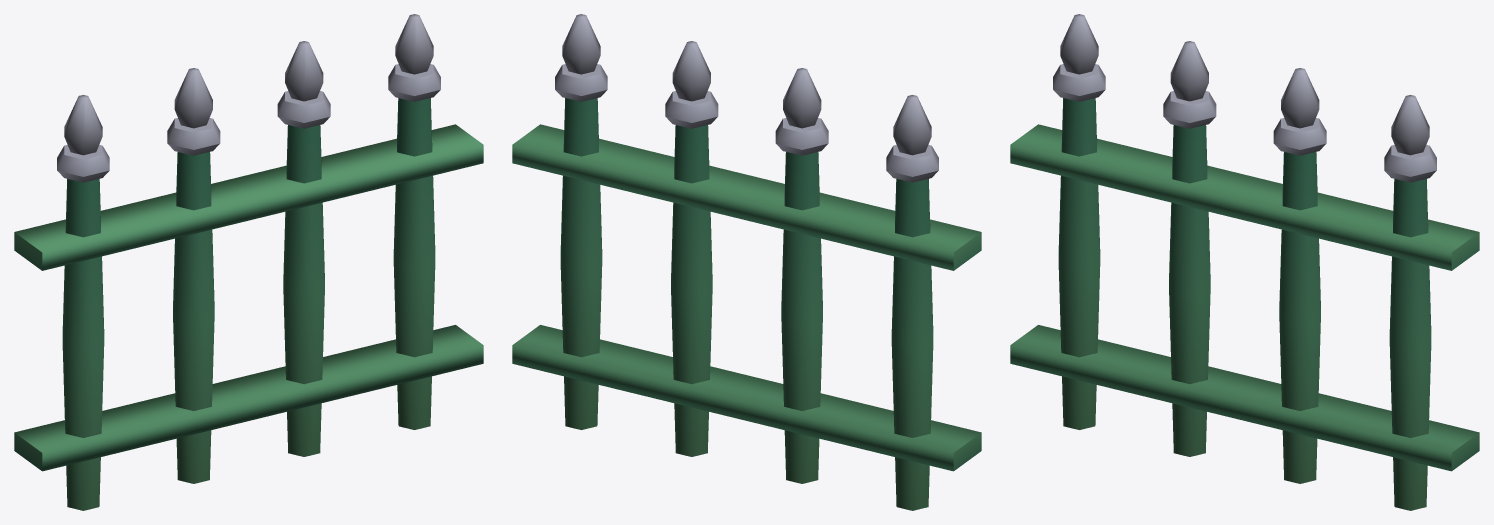
Rendered from iron-fence.glb.
3 views of the same model, side by side, from view 1: azimuth 30°, elevation 25°; view 2: azimuth 150°, elevation 25°; view 3: azimuth 330°, elevation 25° (orthographic).
Visible parts, largest first — view 1: iron-fence; view 2: iron-fence; view 3: iron-fence.
Part boxes in pixels (bbox=[...]): iron-fence: bbox=[14, 14, 483, 510]; iron-fence: bbox=[512, 14, 981, 510]; iron-fence: bbox=[1010, 14, 1479, 510].
Size of the model in its own units: 1.82 by 1.6 by 0.2002.
